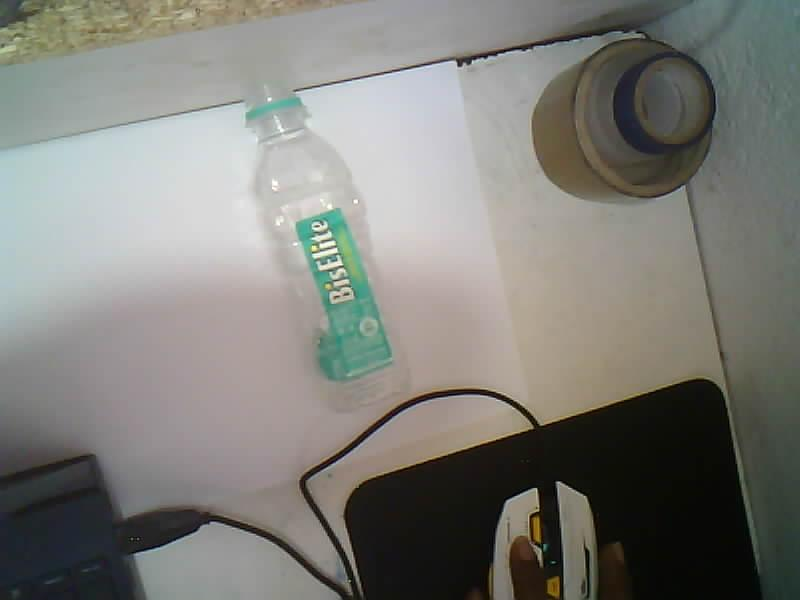non-biodegradable: (246, 84, 406, 409)
